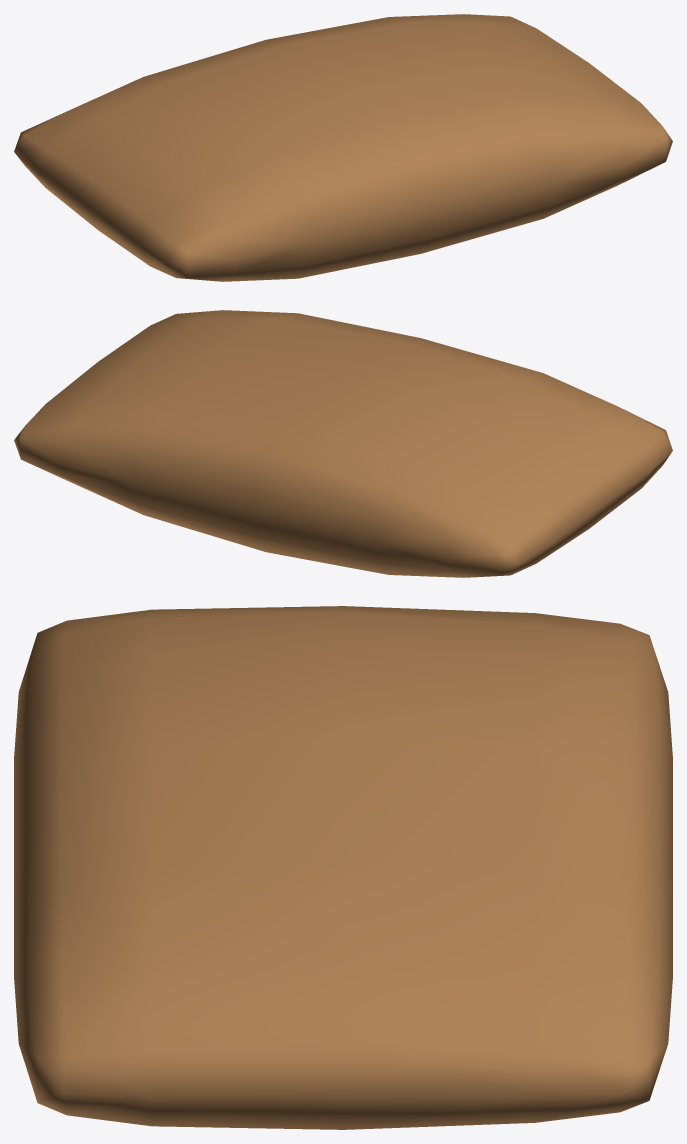
File: Pillow_001.fbx
3 renders of one model, top to bottom at view 1: azimuth 30°, elevation 25°; view 2: azimuth 150°, elevation 25°; view 3: azimuth 270°, elevation 25°, orthographic. The views are drawn at different scales.
Parts seen in each view (by area): view 1: Pillow_001_1; view 2: Pillow_001_1; view 3: Pillow_001_1.
Boxes of the visible parts, box(x1,y1,x2,y2) form: Pillow_001_1: box(14, 14, 672, 281); Pillow_001_1: box(14, 310, 672, 577); Pillow_001_1: box(14, 606, 672, 1129).
Size of the model in its own units: 2.53 by 0.6787 by 1.54.
